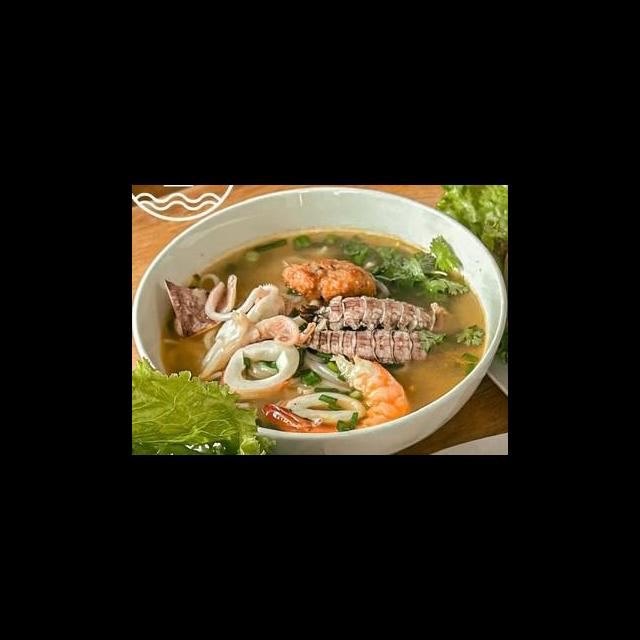bun: (284, 345, 361, 398)
bun hai san: (144, 205, 497, 453)
muc: (193, 277, 318, 383), (216, 332, 302, 403), (158, 270, 240, 341)
tom: (258, 347, 414, 442)
tom tit: (298, 291, 454, 337), (292, 325, 442, 366)
